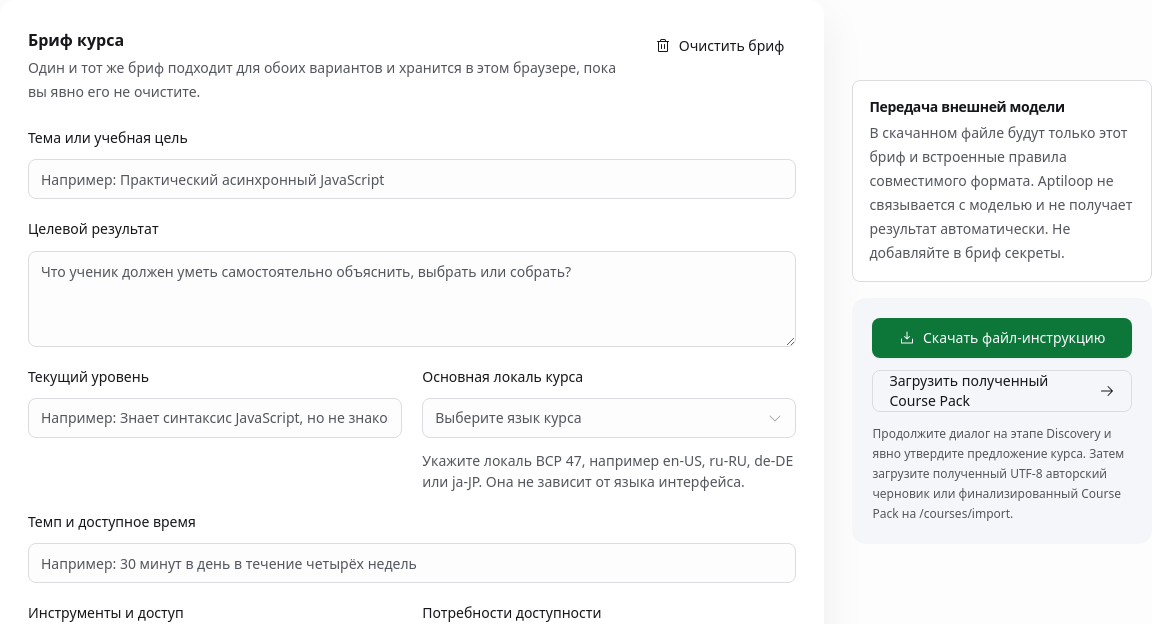
Test case: Course creation brief › renders common Course locales with localized display names
The image size is (1152, 624).
Click the dropdown named "Основная локаль курса": (508, 417) [422, 398, 796, 438]
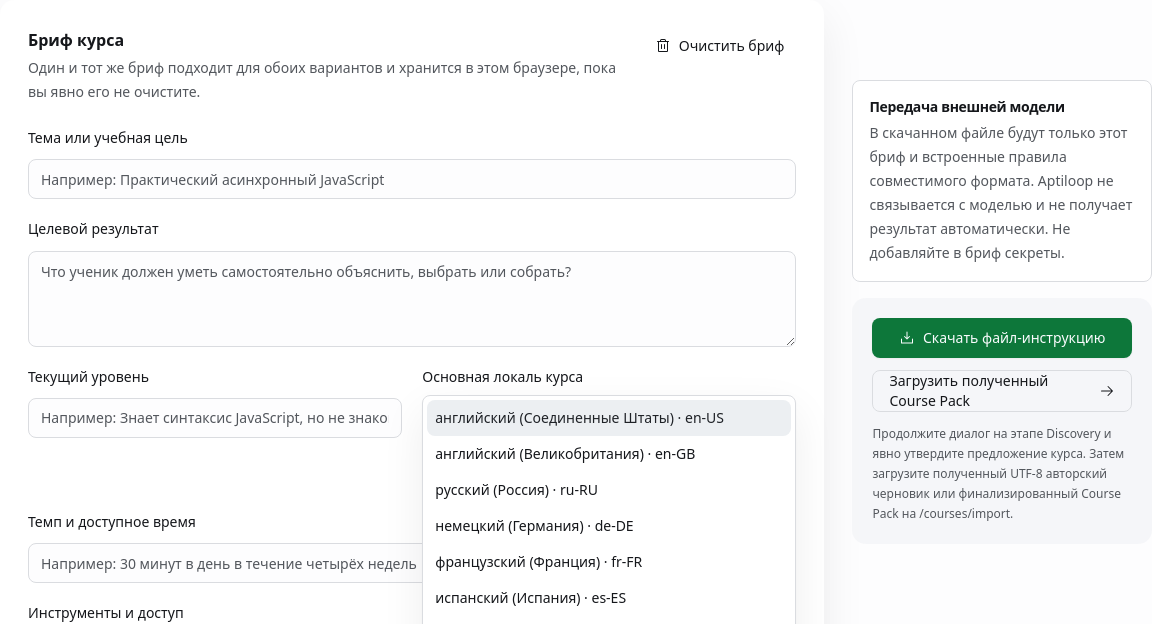
Now the option "русский (Россия) · ru-RU" is shown, box [435, 480, 598, 499]
Now the 4th option is shown, box [435, 516, 634, 535]
